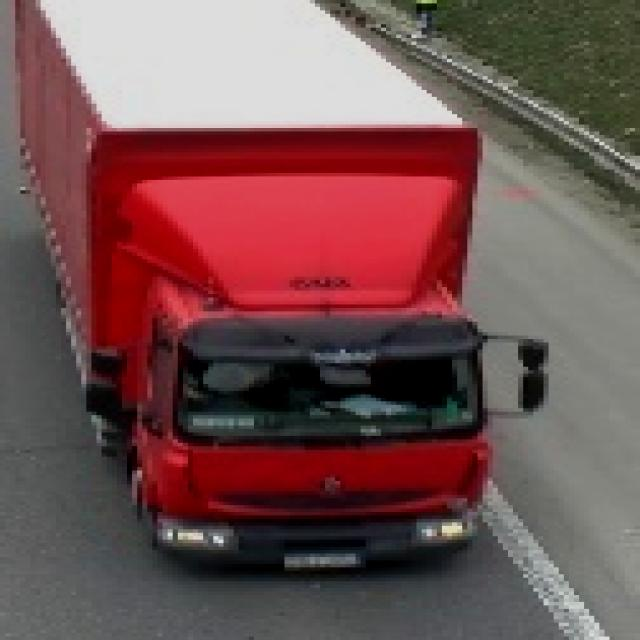truck: (11, 1, 544, 575)
